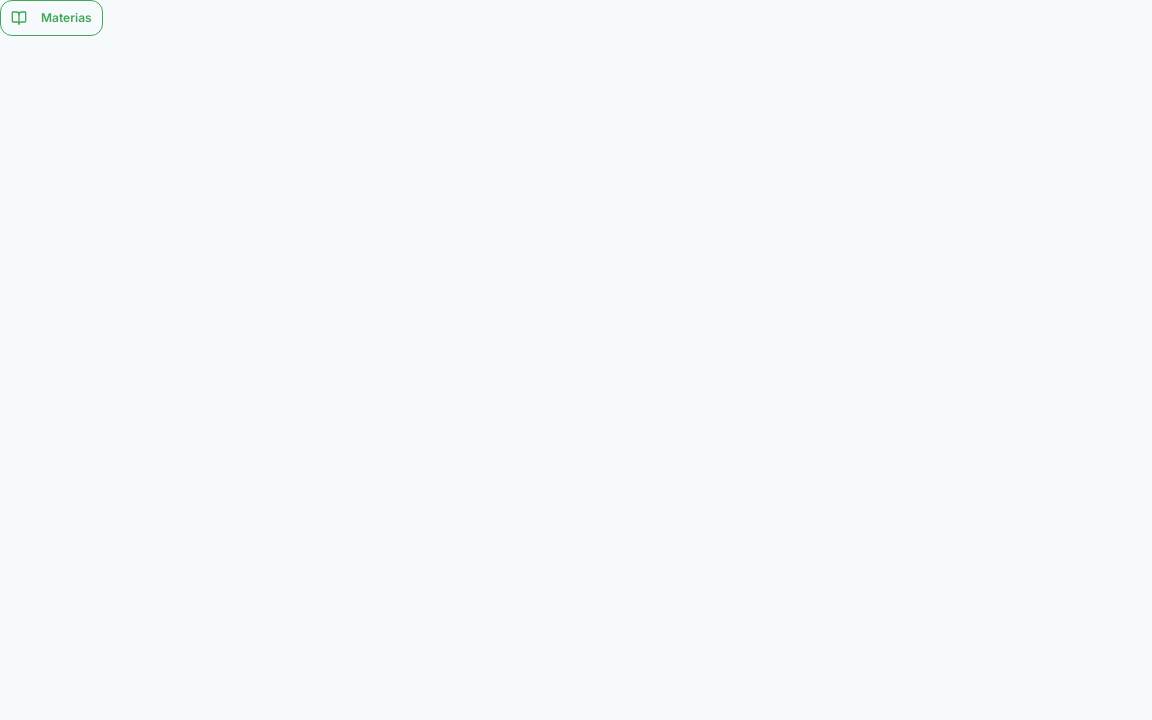
Test: ManageSubjectsDialog – Pruebas de Integración Gestión de Materias › INT-SUB05 – Refresca la lista después de crear un curso
Step 1. Click the button "Materias" → click(51, 18), box [0,0,103,36]
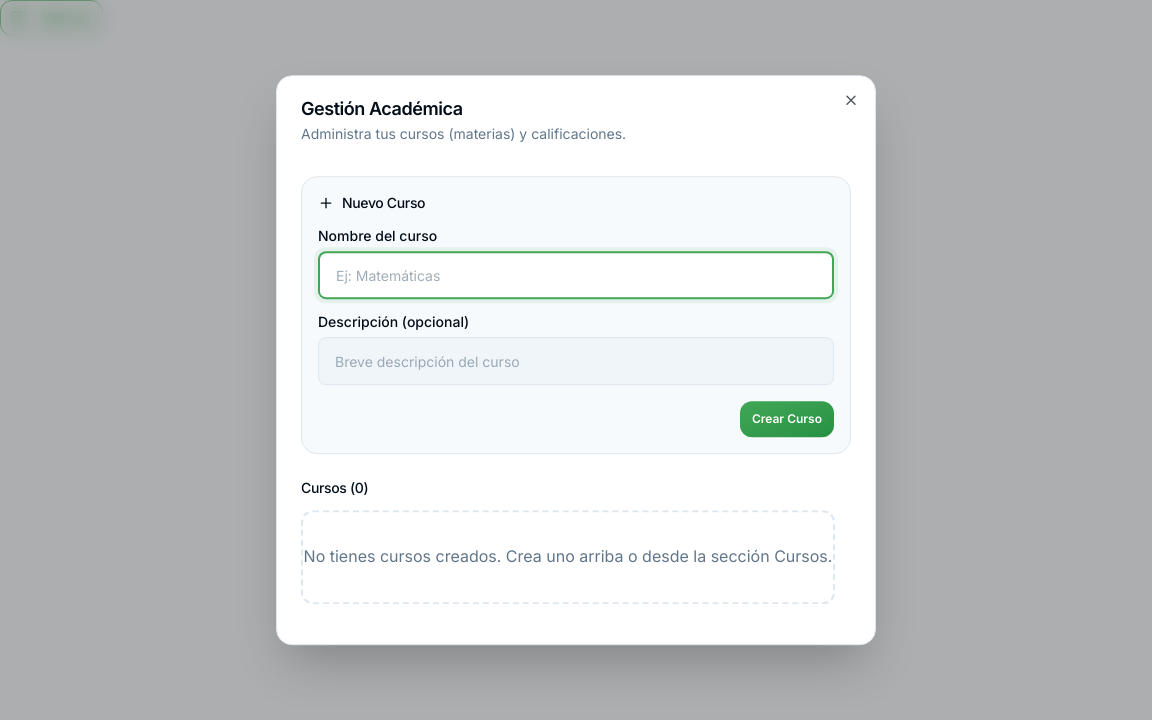
Step 2. Type "Arquitectura de Software" into the field with placeholder "Ej: Matemáticas" → (576, 275), box [318,251,834,299]
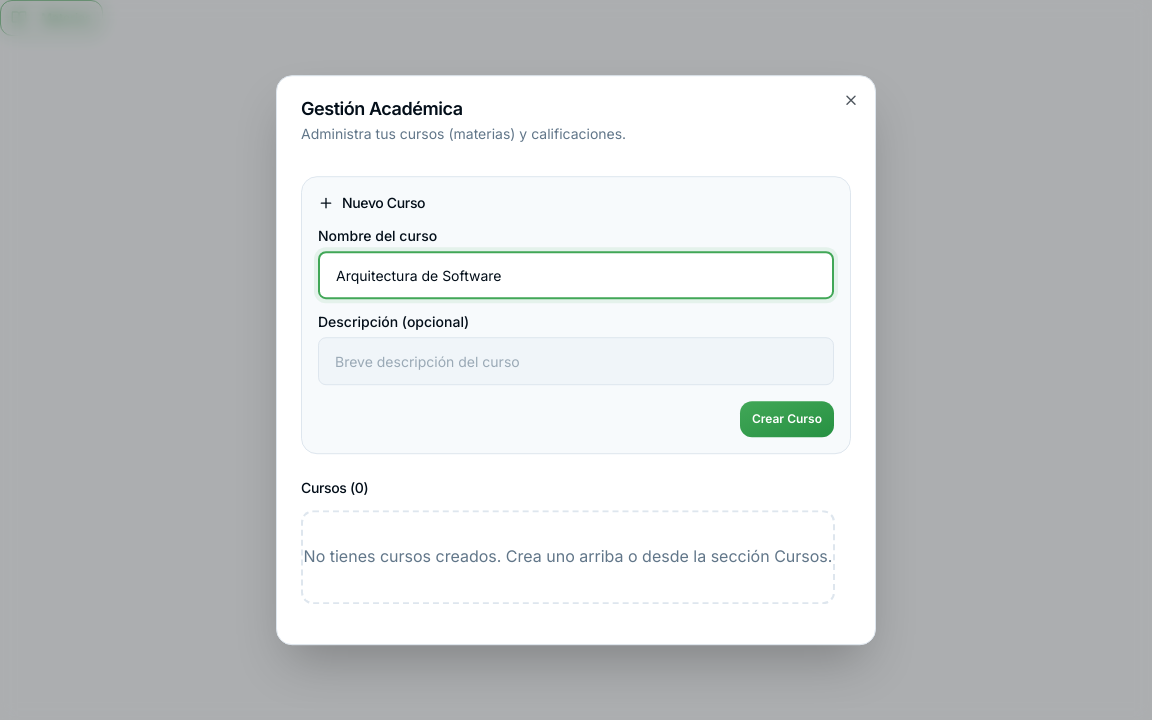
Step 3. Click the button "Crear Curso" → click(787, 419), box [740,401,834,437]
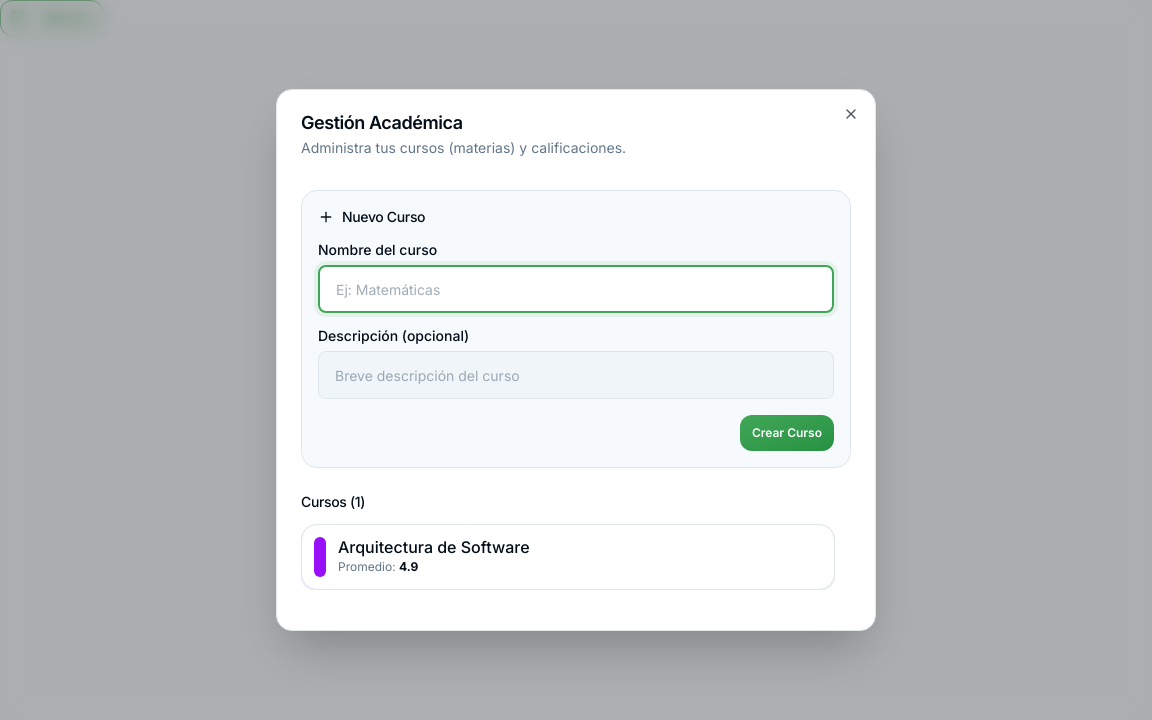
Expected: the text "Arquitectura de Software" is shown, [338,539,530,555]
